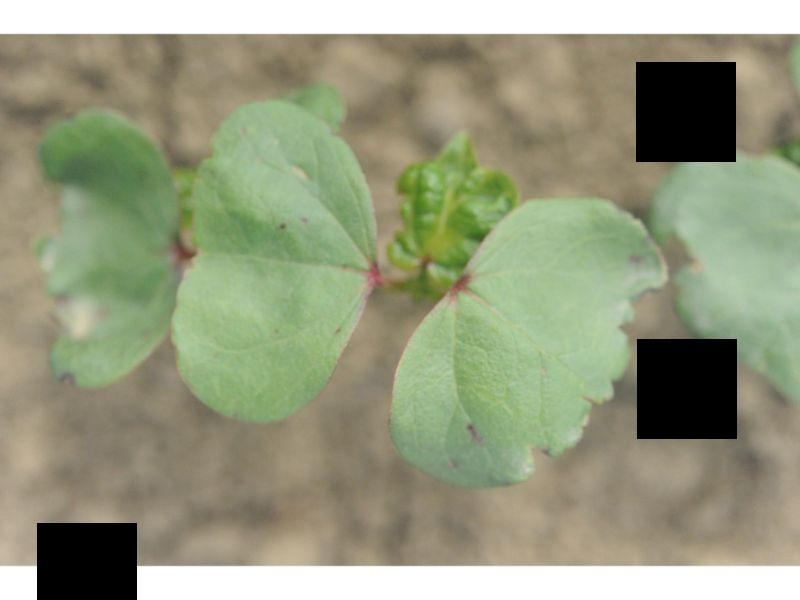cotton: (38, 98, 800, 485)
